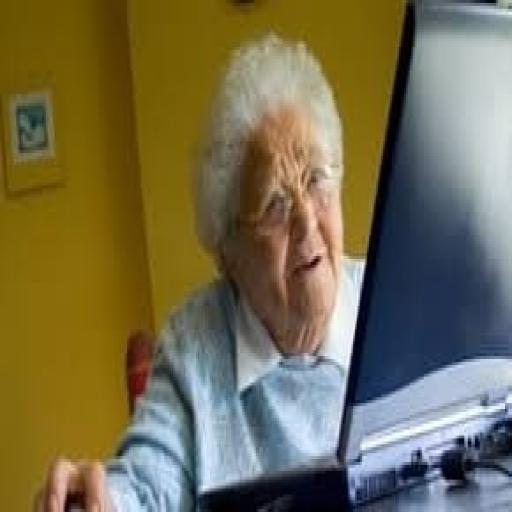using_laptop: (194, 0, 510, 509)
